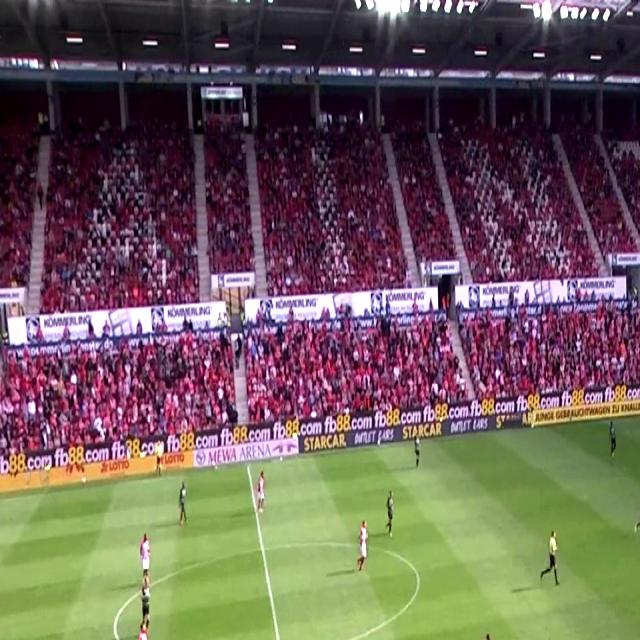referee: (539, 530, 567, 594)
soccer-player: (352, 518, 373, 577), (136, 534, 155, 597), (250, 469, 271, 522), (382, 482, 399, 540), (178, 478, 195, 532), (607, 418, 624, 458), (410, 431, 427, 470), (127, 620, 158, 640), (630, 488, 640, 545), (473, 633, 501, 640)
